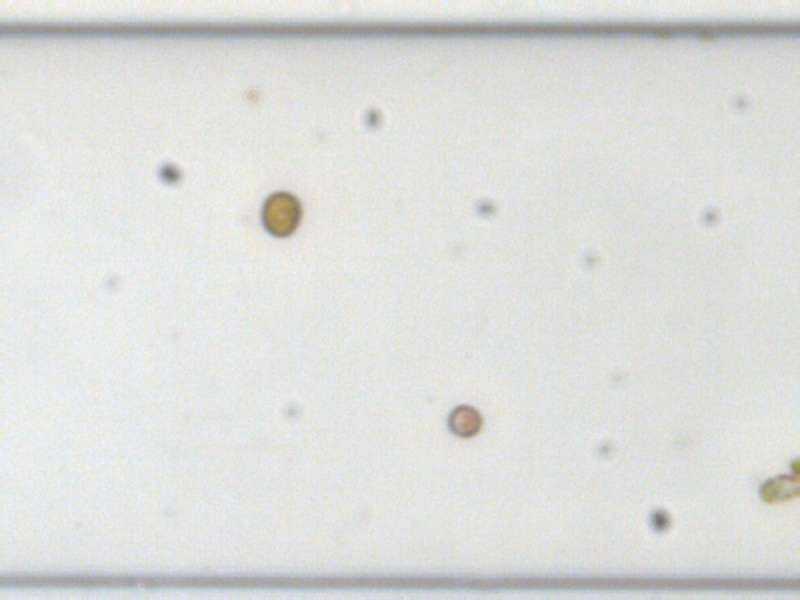Dunaliella salina: (755, 470, 799, 505)
Effrenium: (257, 188, 302, 239)
Porphyridium: (445, 401, 483, 440)
